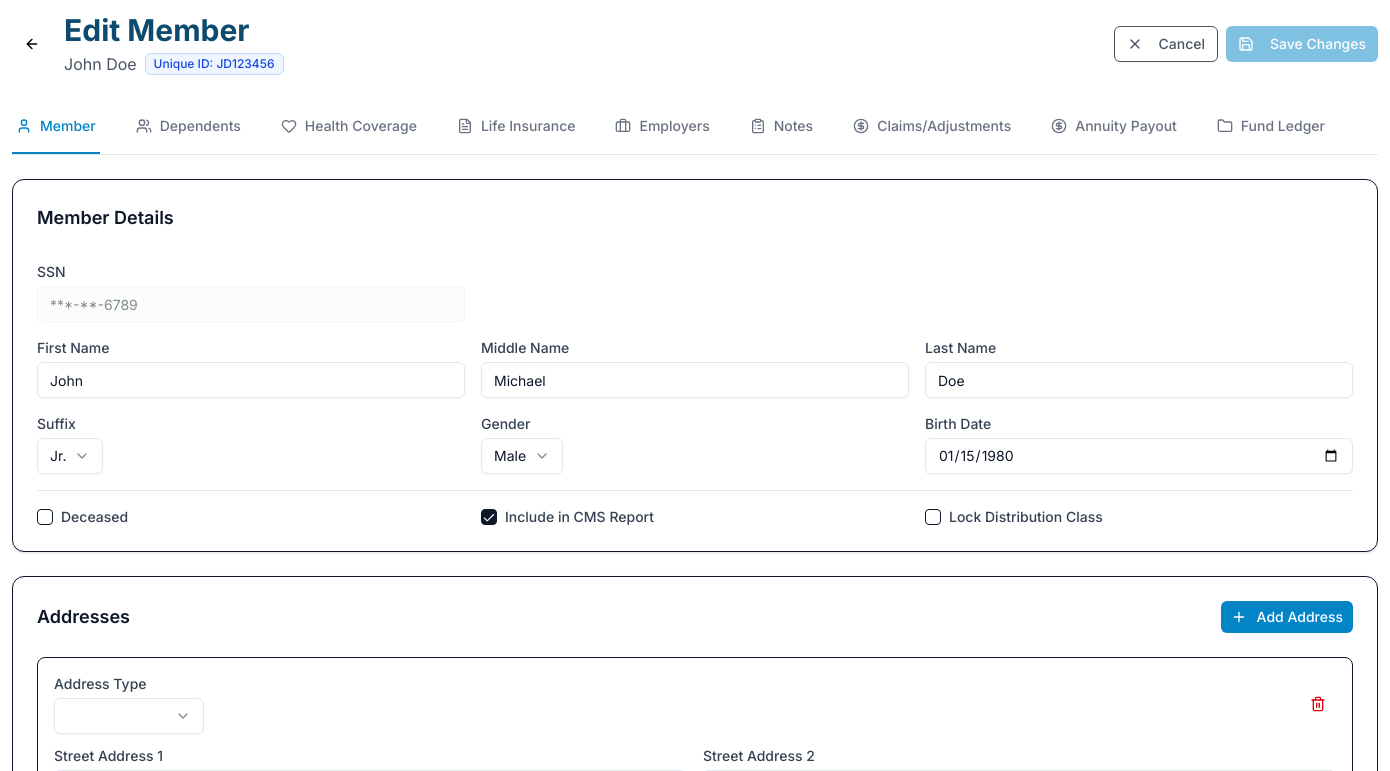
Test: MemberDetailPage › Dependent Management › should display existing dependents in dependents tab
The width and height of the screenshot is (1390, 771).
# Switch to dependents tab
Click the button "Dependents".
click(188, 127)  # box [132,100,245,154]
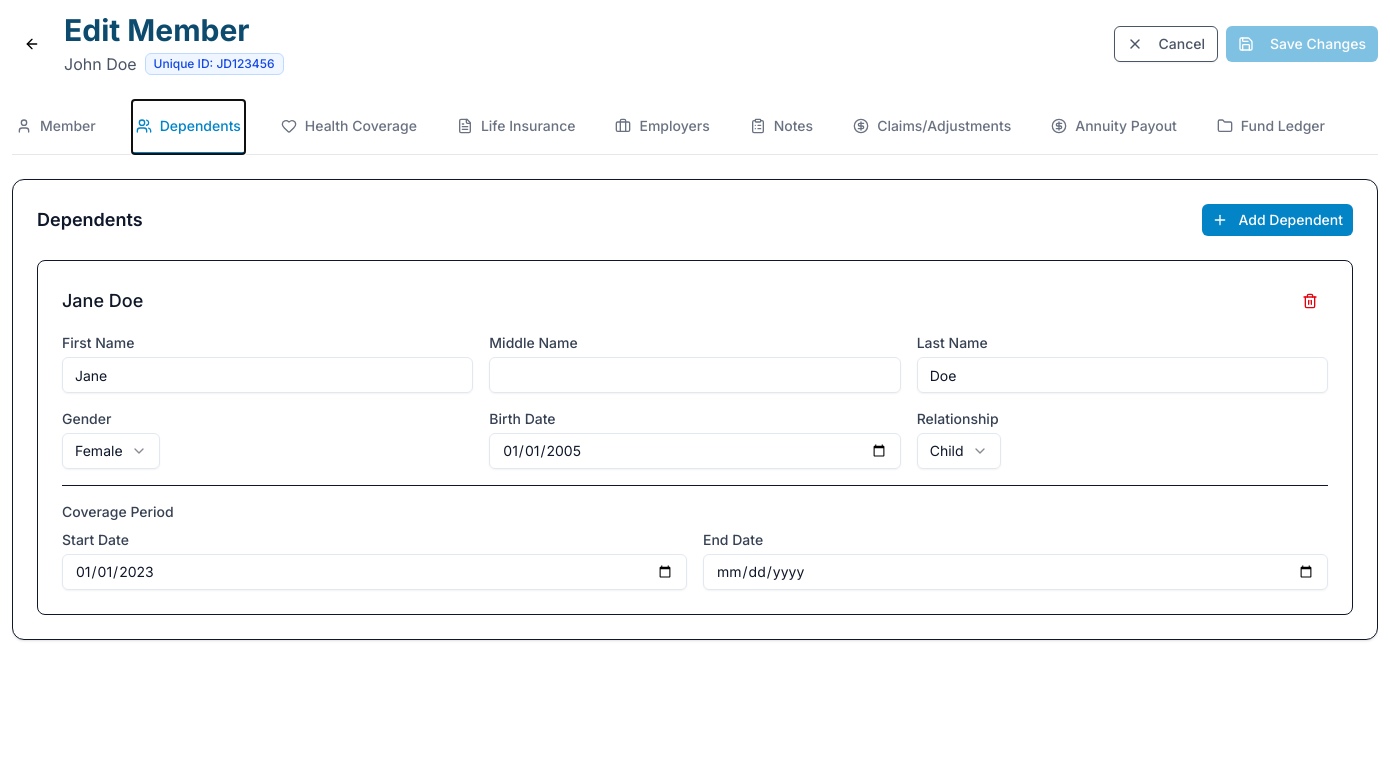
Expected: the heading "Jane Doe" is shown, [62,287,143,315]
Expected: the field showing "Jane" is shown, [62,357,473,393]
